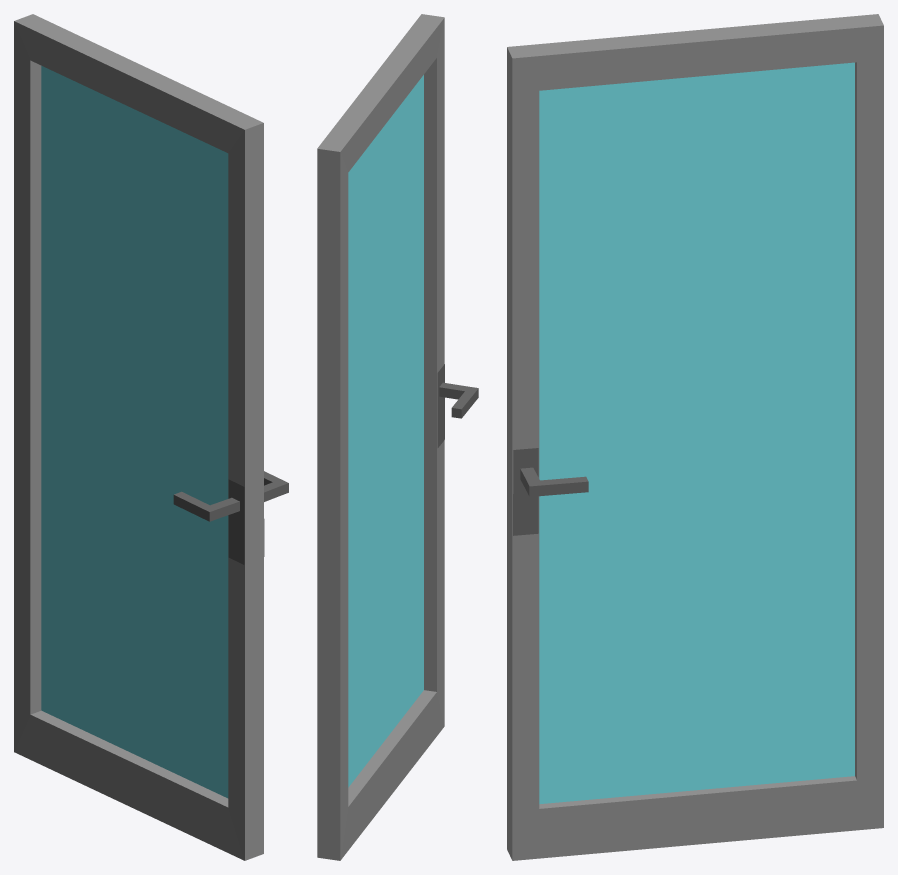
The model's file is ES_DOOR_A.glb.
3 renders of one model, left to right at view 1: azimuth 30°, elevation 25°; view 2: azimuth 150°, elevation 25°; view 3: azimuth 270°, elevation 25°, orthographic. The views are drawn at different scales.
Parts seen in each view (by area): view 1: ES_DOOR_A.001; view 2: ES_DOOR_A.001; view 3: ES_DOOR_A.001.
Boxes of the visible parts, box(x1,y1,x2,y2) form: ES_DOOR_A.001: box(14, 14, 288, 860); ES_DOOR_A.001: box(317, 14, 478, 860); ES_DOOR_A.001: box(507, 14, 883, 860).
Bounding box in the file's own units: 0.3792 × 2.29 × 0.9733.
